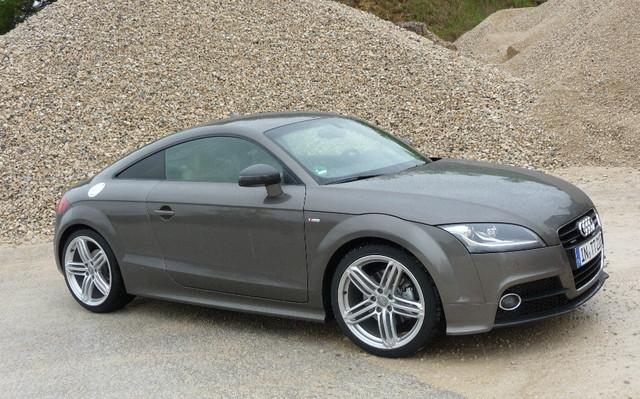car: (52, 108, 608, 360)
